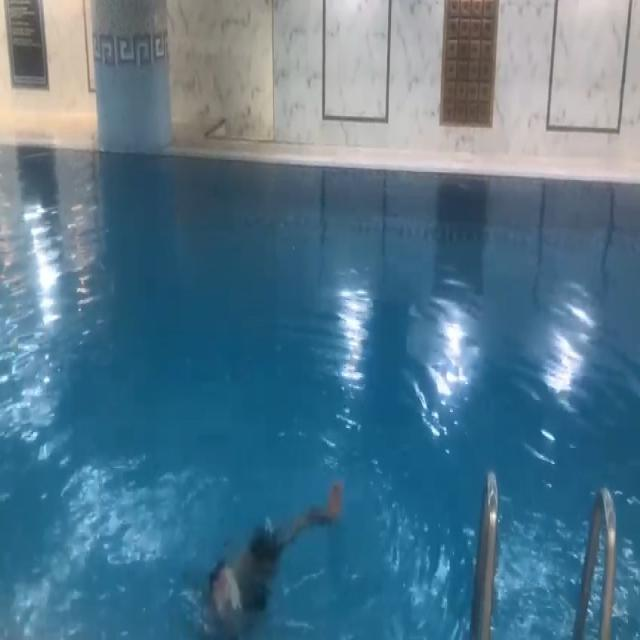Drowning: (202, 482, 345, 640)
